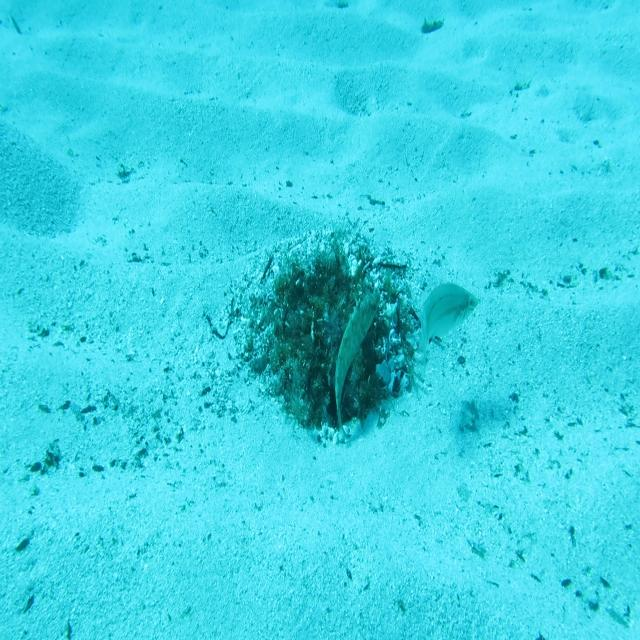LF: (329, 286, 382, 449)
core_nest: (303, 276, 350, 312)
female: (412, 279, 482, 384)
nest: (222, 212, 443, 464)
vegetation: (418, 16, 444, 38)
